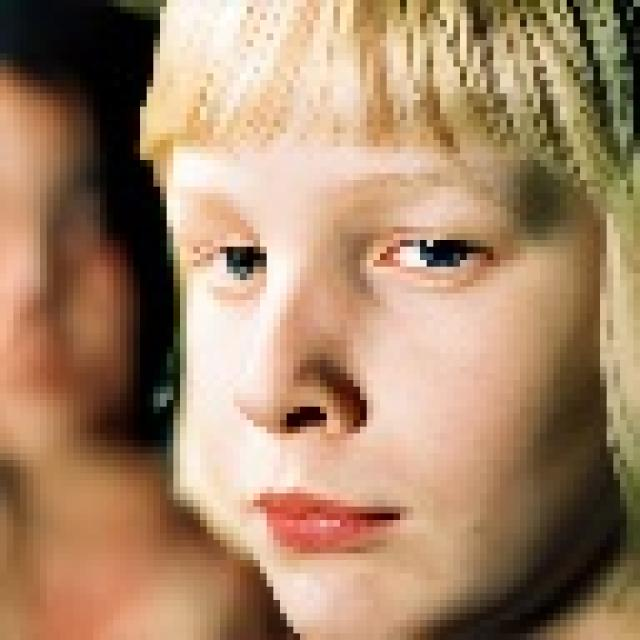sad: (140, 103, 595, 640)
